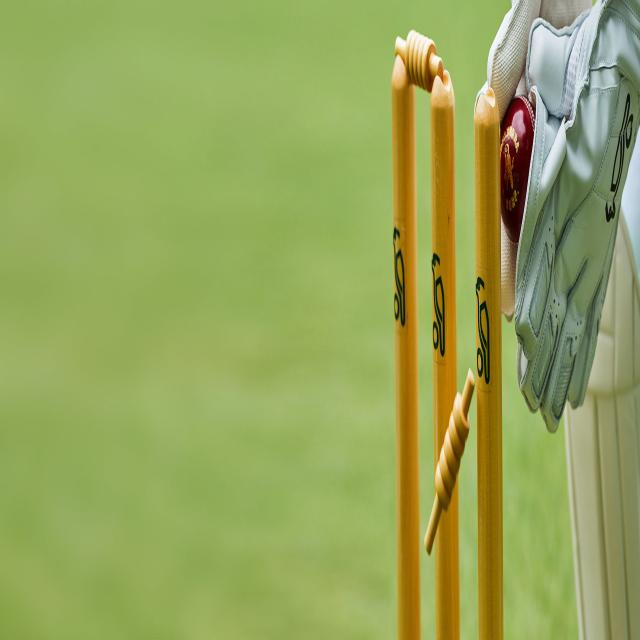stump: (391, 23, 507, 640)
